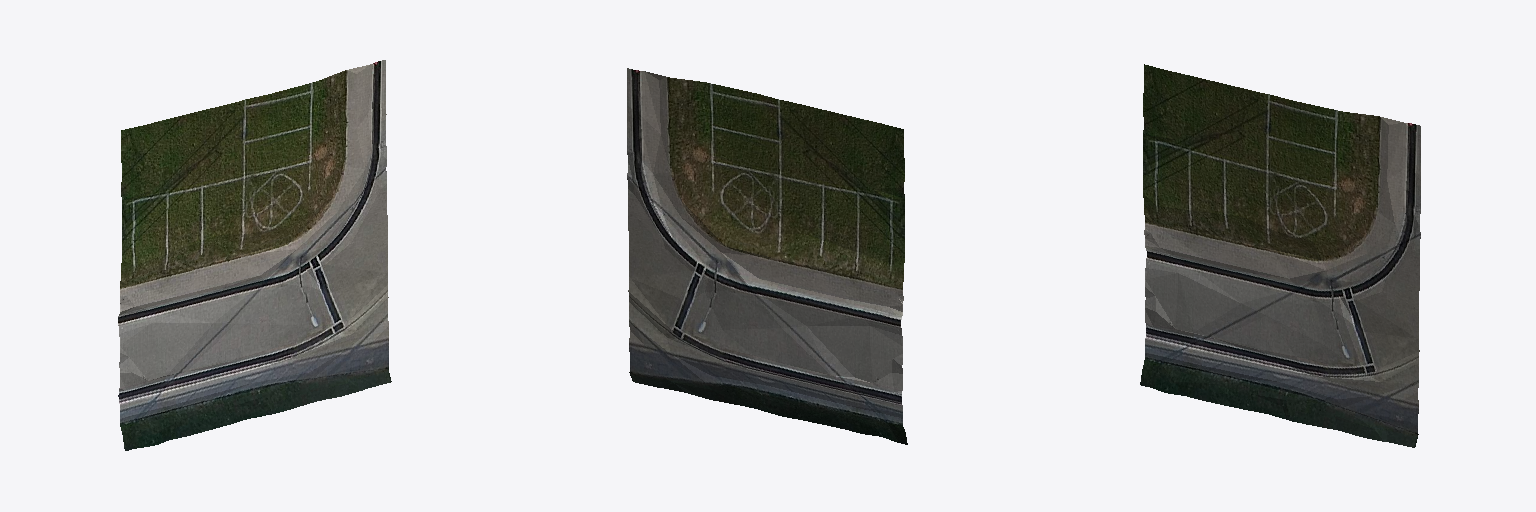
3 views of the same model, side by side, from view 1: azimuth 30°, elevation 25°; view 2: azimuth 150°, elevation 25°; view 3: azimuth 330°, elevation 25° (orthographic).
Parts seen in each view (by area): view 1: obj_0; view 2: obj_0; view 3: obj_0.
Boxes of the visible parts, box(x1,y1,x2,y2) form: obj_0: box(118, 60, 391, 450); obj_0: box(627, 68, 907, 444); obj_0: box(1140, 64, 1420, 447).
Bounding box in the file's own units: 20.08 × 22.53 × 1.51.
1 materials, 1 textured.